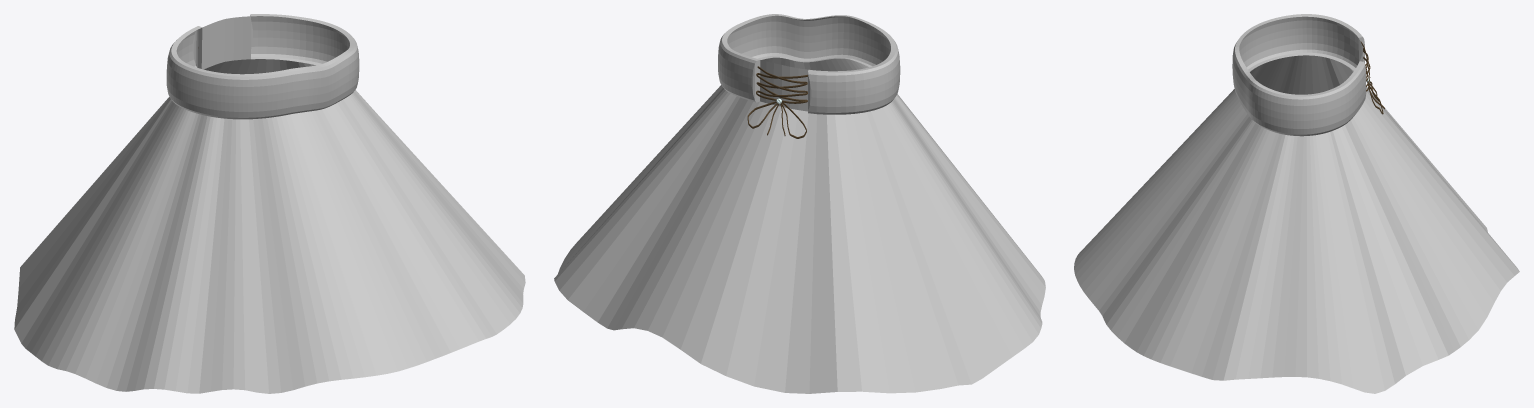
File: Yubka.fbx
The picture shows the model from 3 angles, left to right: view 1: azimuth 30°, elevation 25°; view 2: azimuth 150°, elevation 25°; view 3: azimuth 270°, elevation 25°; orthographic projection. The views are drawn at different scales.
Parts seen in each view (by area): view 1: Plane.001; view 2: Plane.001, Plane.007; view 3: Plane.001.
Part boxes in pixels (bbox=[...]): Plane.001: bbox=[14, 14, 525, 393]; Plane.001: bbox=[554, 14, 1045, 393]; Plane.007: bbox=[747, 66, 807, 138]; Plane.001: bbox=[1074, 14, 1519, 393].
Bounding box in the file's own units: 143 × 84.85 × 135.
